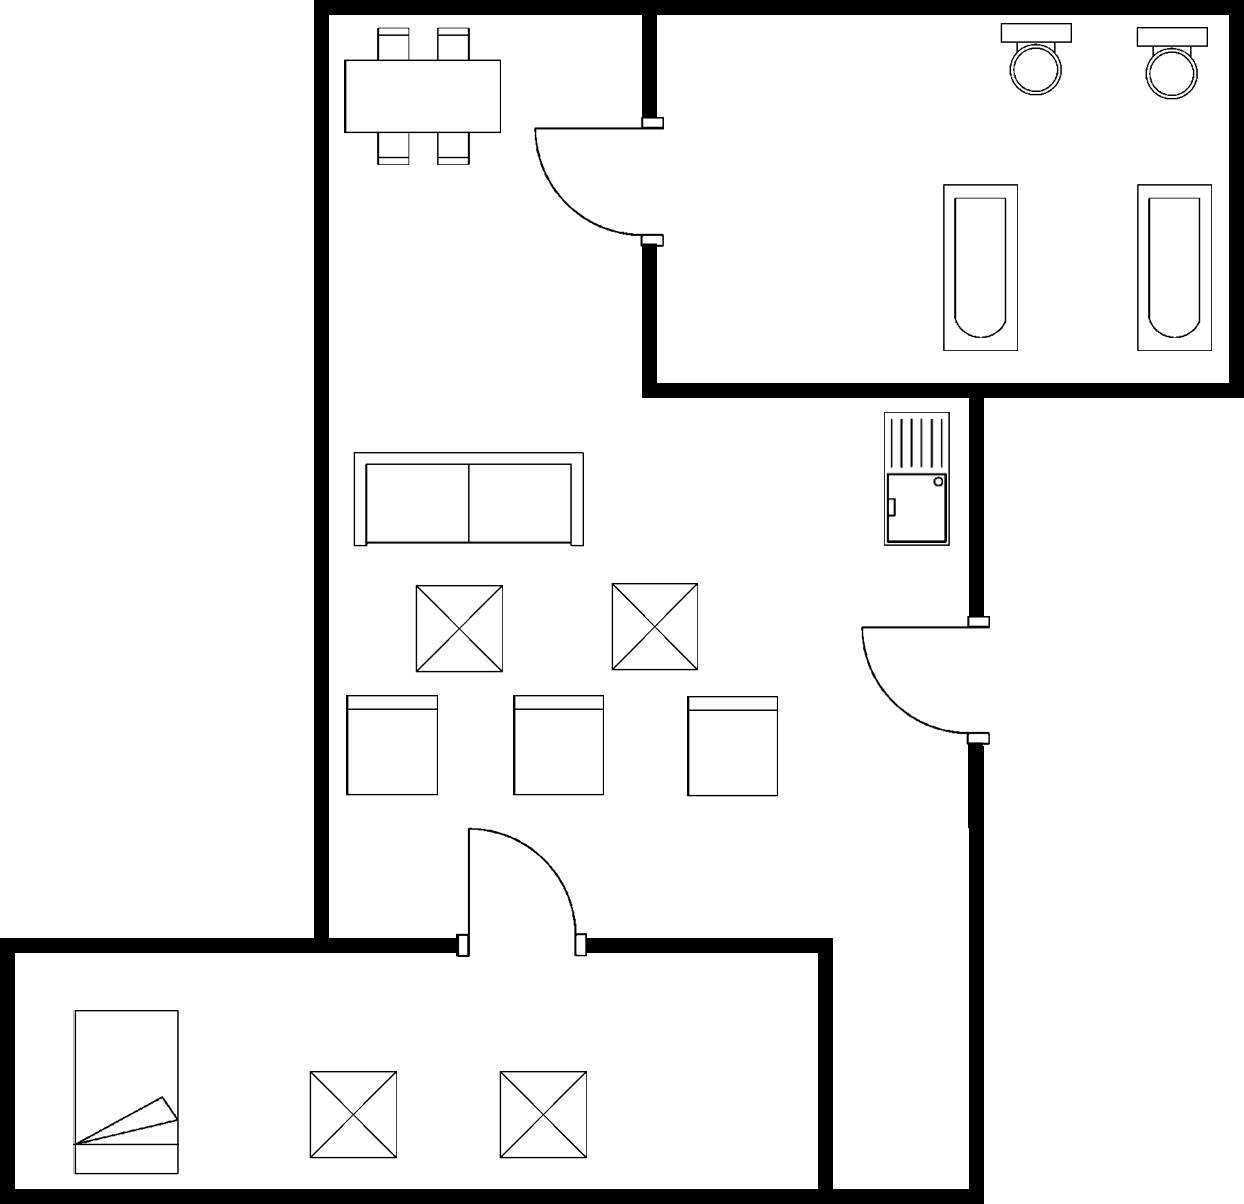bed: (65, 1001, 188, 1183)
coffee_table: (489, 1059, 598, 1167), (406, 574, 515, 682), (302, 1062, 406, 1168), (602, 574, 706, 679)
dining_table: (337, 22, 514, 175)
large_sink: (988, 16, 1083, 106), (1126, 18, 1218, 107)
large_sofa: (342, 442, 596, 555)
sink: (874, 402, 961, 555)
small_sofa: (679, 687, 785, 809), (342, 688, 451, 803), (504, 689, 612, 802)
tub: (1130, 174, 1222, 362), (936, 178, 1025, 360)
